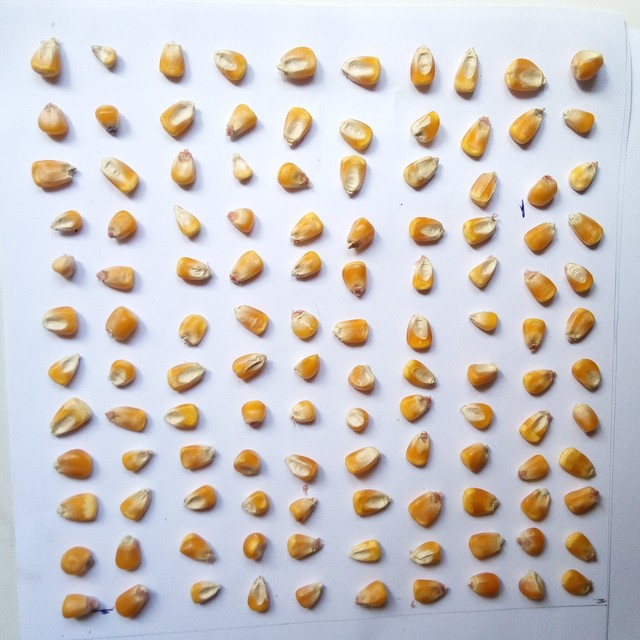maiz: (503, 52, 551, 101), (340, 47, 385, 93), (49, 398, 96, 440), (462, 478, 505, 522), (53, 487, 104, 524), (40, 303, 86, 344), (409, 488, 452, 531), (102, 303, 144, 347), (401, 308, 439, 356), (164, 148, 205, 192), (98, 157, 144, 196), (44, 352, 90, 391), (278, 103, 317, 148), (175, 532, 222, 569), (26, 38, 65, 82), (408, 45, 441, 97), (568, 47, 607, 91), (231, 300, 275, 339), (464, 529, 509, 567), (162, 93, 199, 139), (522, 263, 559, 309), (163, 358, 209, 395), (334, 156, 370, 203), (504, 107, 546, 147), (51, 447, 99, 482), (343, 438, 385, 478), (276, 42, 315, 85), (517, 407, 560, 446), (103, 206, 144, 246), (172, 251, 214, 290), (405, 212, 448, 250), (172, 311, 215, 349), (518, 364, 561, 402), (102, 403, 153, 435), (56, 545, 101, 581), (287, 208, 328, 247), (28, 158, 75, 192), (566, 213, 608, 251), (562, 256, 600, 298), (467, 169, 504, 212), (229, 247, 266, 290), (112, 584, 155, 621), (466, 250, 502, 294), (399, 358, 443, 394), (351, 485, 395, 521), (94, 261, 139, 296), (563, 302, 598, 347), (231, 347, 270, 387), (569, 355, 607, 396), (457, 398, 498, 436), (401, 154, 443, 191), (564, 483, 606, 520), (275, 159, 318, 195), (121, 480, 156, 524), (462, 112, 494, 160), (405, 429, 439, 474), (285, 529, 330, 563), (338, 115, 378, 153), (519, 485, 557, 525), (453, 45, 480, 101), (463, 569, 507, 603), (209, 45, 248, 83), (521, 217, 559, 256), (569, 400, 608, 438), (513, 525, 552, 563), (353, 577, 392, 615), (235, 532, 275, 569), (564, 529, 602, 567), (282, 451, 321, 488), (220, 150, 260, 186), (524, 172, 560, 212), (557, 566, 598, 601), (177, 439, 220, 472), (410, 575, 453, 608), (463, 359, 503, 394), (461, 213, 502, 247), (245, 574, 279, 615), (518, 568, 555, 605), (284, 306, 320, 344), (293, 579, 331, 615), (33, 103, 72, 138), (569, 157, 604, 196), (336, 260, 371, 299), (161, 403, 205, 434), (560, 446, 600, 480), (332, 316, 373, 349), (519, 316, 552, 357), (346, 537, 391, 567), (460, 304, 503, 335), (86, 39, 123, 75), (105, 357, 142, 393), (395, 394, 437, 425), (459, 437, 495, 473), (223, 103, 258, 140), (48, 206, 85, 241), (342, 215, 377, 252), (114, 535, 148, 573), (408, 252, 436, 298), (180, 483, 221, 514), (406, 539, 447, 570), (410, 109, 443, 147), (185, 580, 228, 609), (120, 445, 160, 476), (288, 249, 324, 283), (289, 351, 325, 385), (286, 395, 320, 431), (60, 592, 98, 624), (156, 39, 186, 79), (221, 204, 257, 237), (516, 452, 552, 485), (286, 493, 322, 526), (344, 361, 376, 398), (237, 398, 270, 433), (559, 106, 597, 136), (170, 202, 200, 239), (236, 443, 265, 480), (241, 489, 274, 520), (94, 101, 123, 136), (340, 407, 372, 437), (51, 250, 77, 285)
